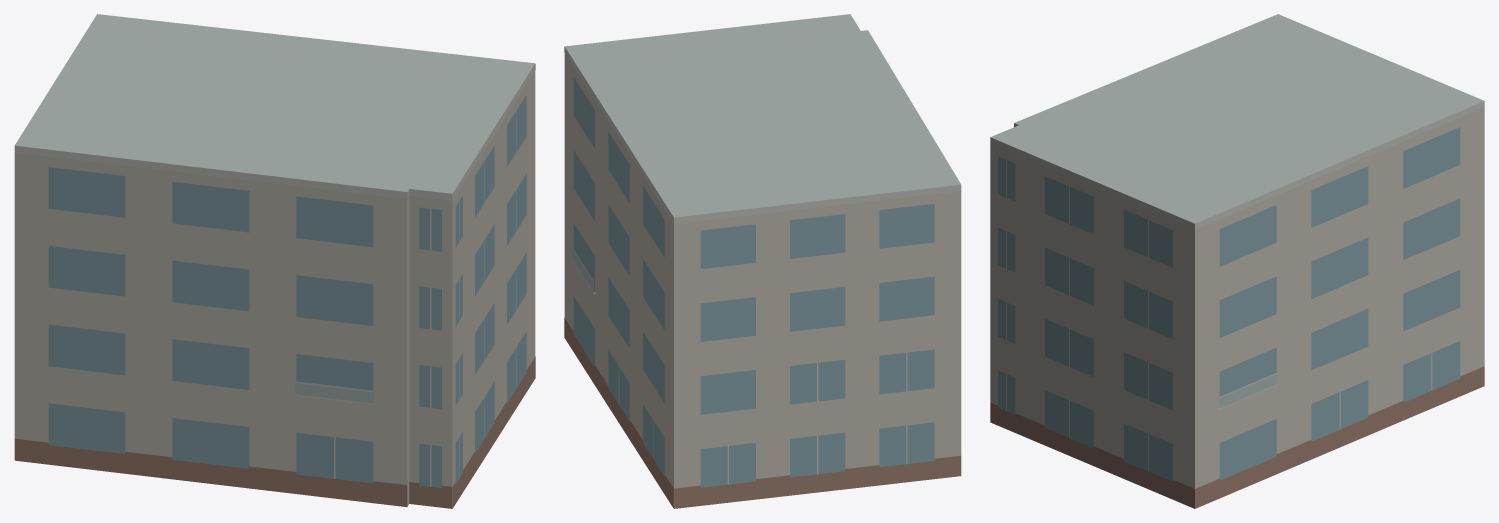
File: survey-upis-32682457.glb
3 views of the same model, side by side, from view 1: azimuth 30°, elevation 25°; view 2: azimuth 150°, elevation 25°; view 3: azimuth 270°, elevation 25° (orthographic). The views are drawn at different scales.
Parts seen in each view (by area): view 1: survey-upis-32682457.tmp; view 2: survey-upis-32682457.tmp; view 3: survey-upis-32682457.tmp.
Boxes of the visible parts, box(x1,y1,x2,y2) form: survey-upis-32682457.tmp: box(14, 14, 535, 508); survey-upis-32682457.tmp: box(564, 14, 961, 508); survey-upis-32682457.tmp: box(990, 14, 1484, 508).
Size of the model in its own units: 17.68 by 11.2 by 17.61.
